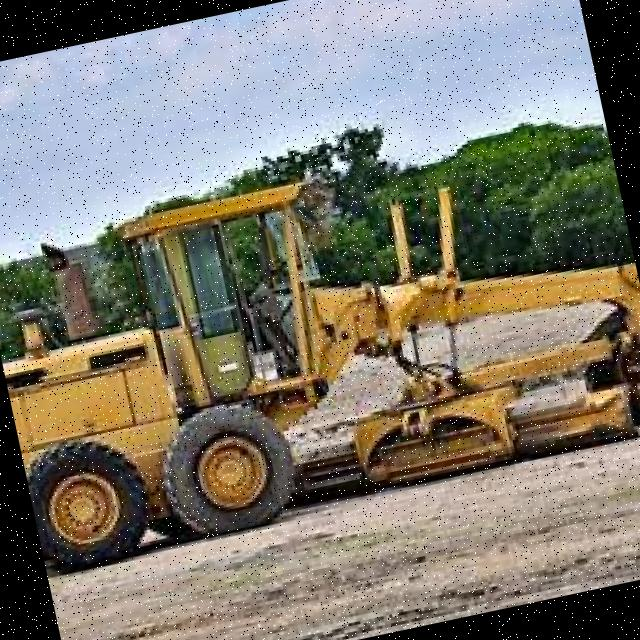Grader: (0, 99, 640, 589)
